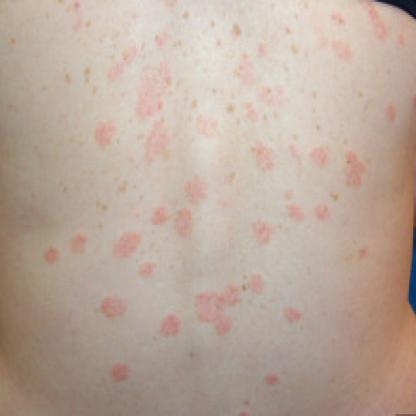Ringworm: (188, 276, 242, 338), (335, 137, 372, 196), (98, 288, 130, 330), (92, 114, 121, 156), (171, 203, 199, 245), (110, 224, 140, 262), (182, 170, 212, 207), (248, 138, 276, 177), (157, 309, 183, 348), (40, 242, 63, 272), (281, 306, 304, 328)
